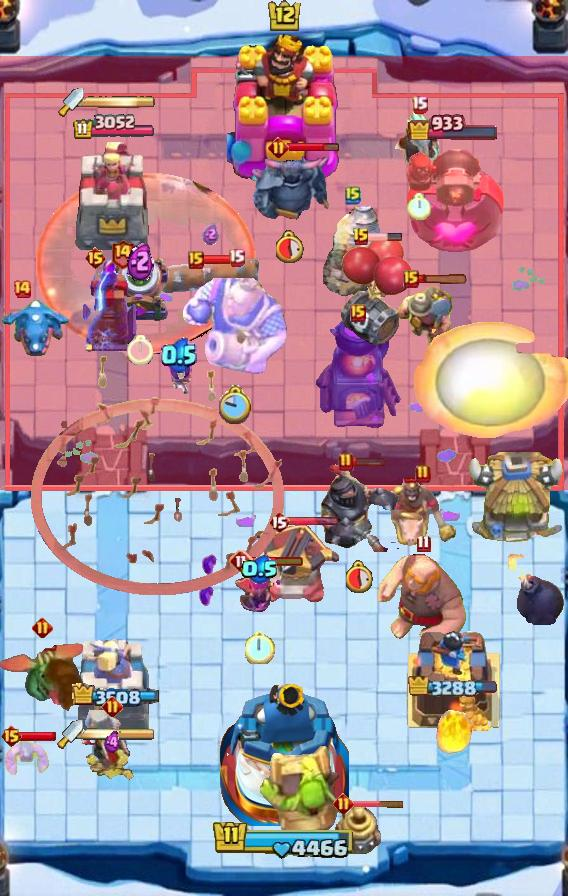baby-dragon: (505, 554, 565, 626)
balloon: (376, 553, 470, 653)
bandit: (393, 284, 455, 354)
bar: (73, 140, 155, 256), (77, 637, 151, 731)
barbarian: (0, 739, 52, 777)
clock: (212, 819, 356, 861)
electro-spirit: (161, 337, 197, 373), (127, 240, 154, 281), (241, 556, 279, 585), (103, 730, 121, 754), (201, 223, 218, 245)
electro-wizard: (0, 639, 86, 713)
elixir: (219, 385, 253, 424), (245, 630, 275, 664), (275, 230, 304, 263), (346, 560, 374, 592), (127, 335, 153, 365), (407, 193, 431, 220)
emote: (252, 555, 305, 567), (417, 274, 469, 286), (5, 730, 57, 742), (288, 143, 341, 154), (287, 516, 339, 527), (351, 799, 405, 808), (352, 456, 387, 468), (202, 255, 236, 266), (367, 232, 403, 242)
evolution-symbol: (233, 564, 287, 619)
freeze: (387, 478, 459, 546)
giant-skeleton: (183, 272, 289, 374)
goblin: (164, 358, 195, 398)
goblin-cage: (108, 254, 172, 324)
goblin-drill: (335, 805, 381, 857)
golemite: (248, 153, 332, 225)
graveyard: (0, 296, 72, 358)
hunter: (314, 321, 402, 431)
ice-spirit-evolution-symbol: (80, 257, 140, 353)
king-tower: (219, 678, 349, 826), (227, 29, 341, 181)
king-tower-bar: (84, 95, 156, 109), (83, 727, 155, 741)
lava-pup: (252, 524, 340, 606)
magic-archer: (323, 205, 383, 297)
minion: (159, 257, 261, 293)
mortar: (389, 108, 449, 180)
phoenix-egg: (34, 172, 257, 356)
poison: (71, 708, 153, 782)
prince: (466, 452, 568, 548)
queen-tower: (405, 621, 501, 731)
royal-guardian: (320, 460, 400, 552)
royal-recruit-evolution: (337, 235, 415, 349)
selected: (408, 112, 501, 140), (72, 114, 156, 141), (69, 684, 158, 709), (408, 676, 498, 700)
skeleton-barrel: (31, 352, 285, 596)
text: (110, 238, 135, 269), (229, 549, 253, 573), (84, 246, 107, 270), (1, 724, 24, 748), (268, 510, 290, 534), (32, 617, 53, 639), (268, 138, 289, 159), (101, 695, 122, 716), (334, 793, 355, 814), (12, 279, 32, 299), (352, 227, 370, 247), (227, 248, 245, 267), (412, 94, 429, 113), (345, 185, 361, 205), (338, 452, 354, 472), (415, 464, 431, 484), (188, 251, 204, 269), (403, 270, 419, 288), (350, 304, 366, 322), (417, 535, 431, 553)
tower-bar: (401, 138, 505, 256)
valkyrie: (413, 319, 567, 441), (432, 698, 478, 756)
x-bow: (257, 744, 341, 846)
